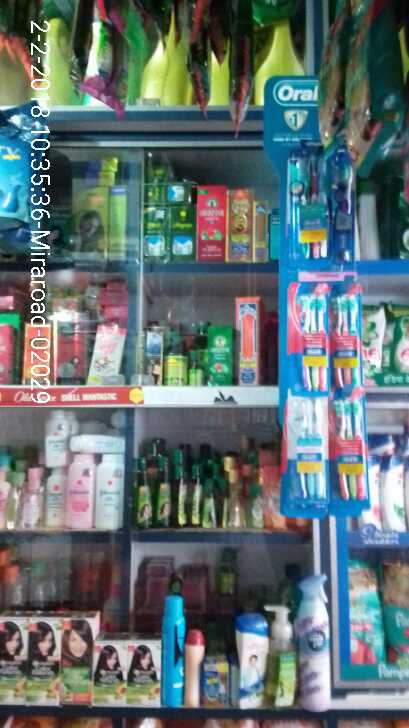oralb: (283, 149, 331, 263), (328, 400, 368, 509), (287, 400, 327, 507), (328, 293, 369, 389), (331, 145, 361, 259), (293, 291, 327, 391)
